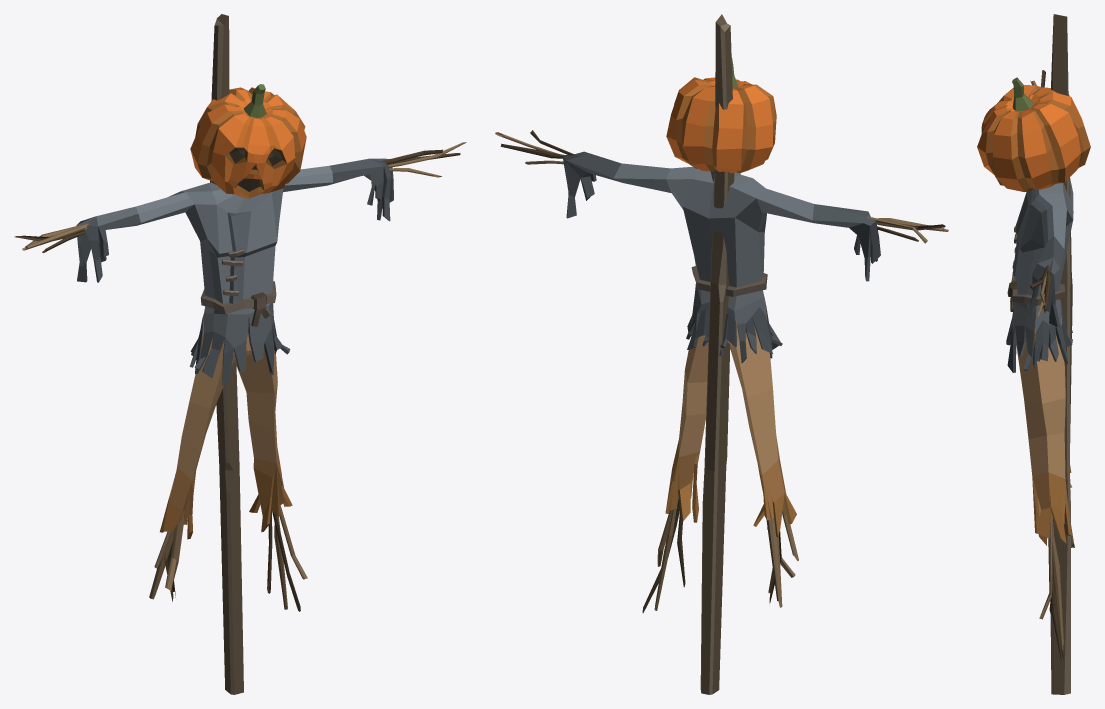
File: WF_LP_HT_Props_Scarecrow.003.fbx
3 renders of one model, left to right at view 1: azimuth 30°, elevation 25°; view 2: azimuth 150°, elevation 25°; view 3: azimuth 270°, elevation 25°, orthographic.
Parts seen in each view (by area): view 1: WF_LP_HT_Props_Scarecrow.003; view 2: WF_LP_HT_Props_Scarecrow.003; view 3: WF_LP_HT_Props_Scarecrow.003.
Part boxes in pixels (x1,y1,x2,y2): WF_LP_HT_Props_Scarecrow.003: (14,14,466,694); WF_LP_HT_Props_Scarecrow.003: (495,14,948,694); WF_LP_HT_Props_Scarecrow.003: (977,14,1090,694).
Bounding box in the file's own units: 1.73 × 2.49 × 0.3806.
